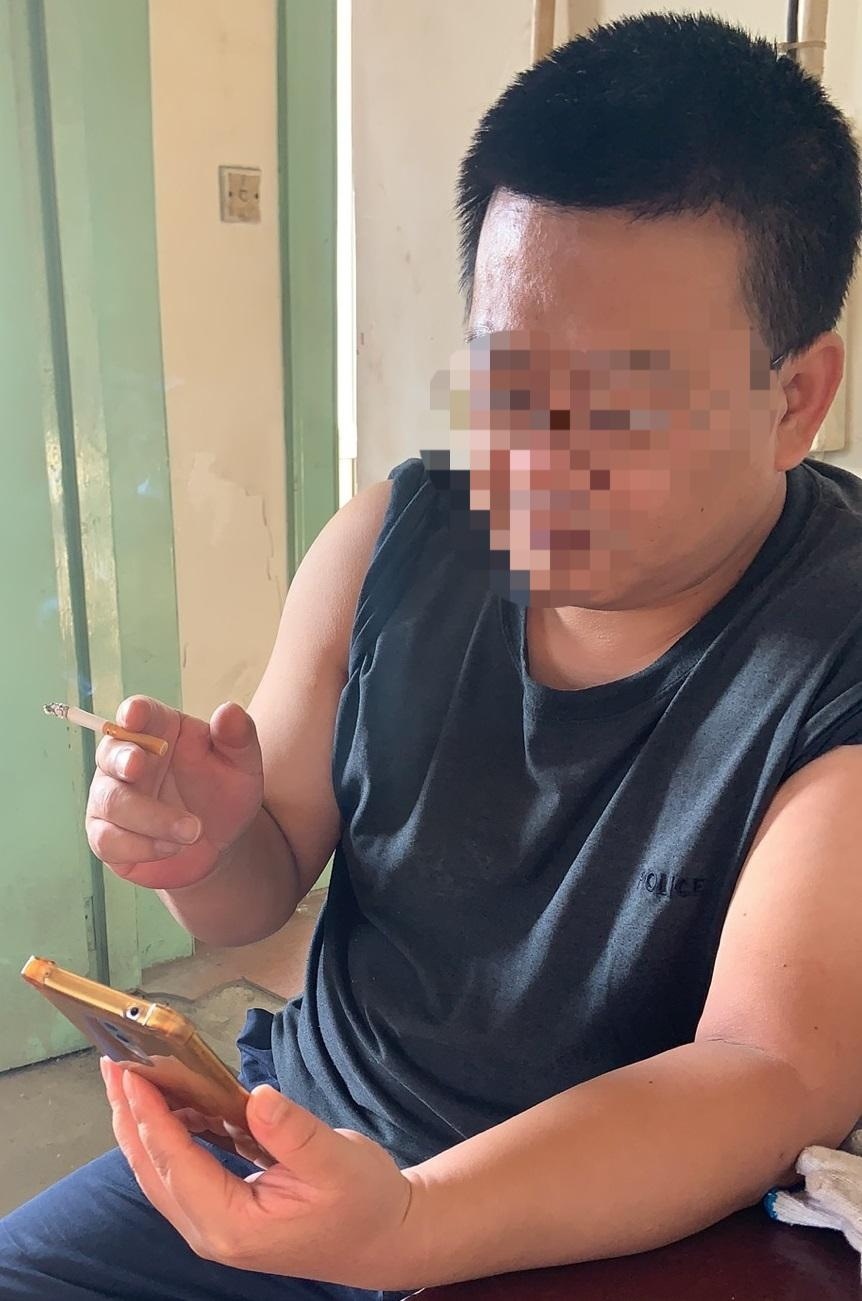smoke: (41, 693, 176, 760)
